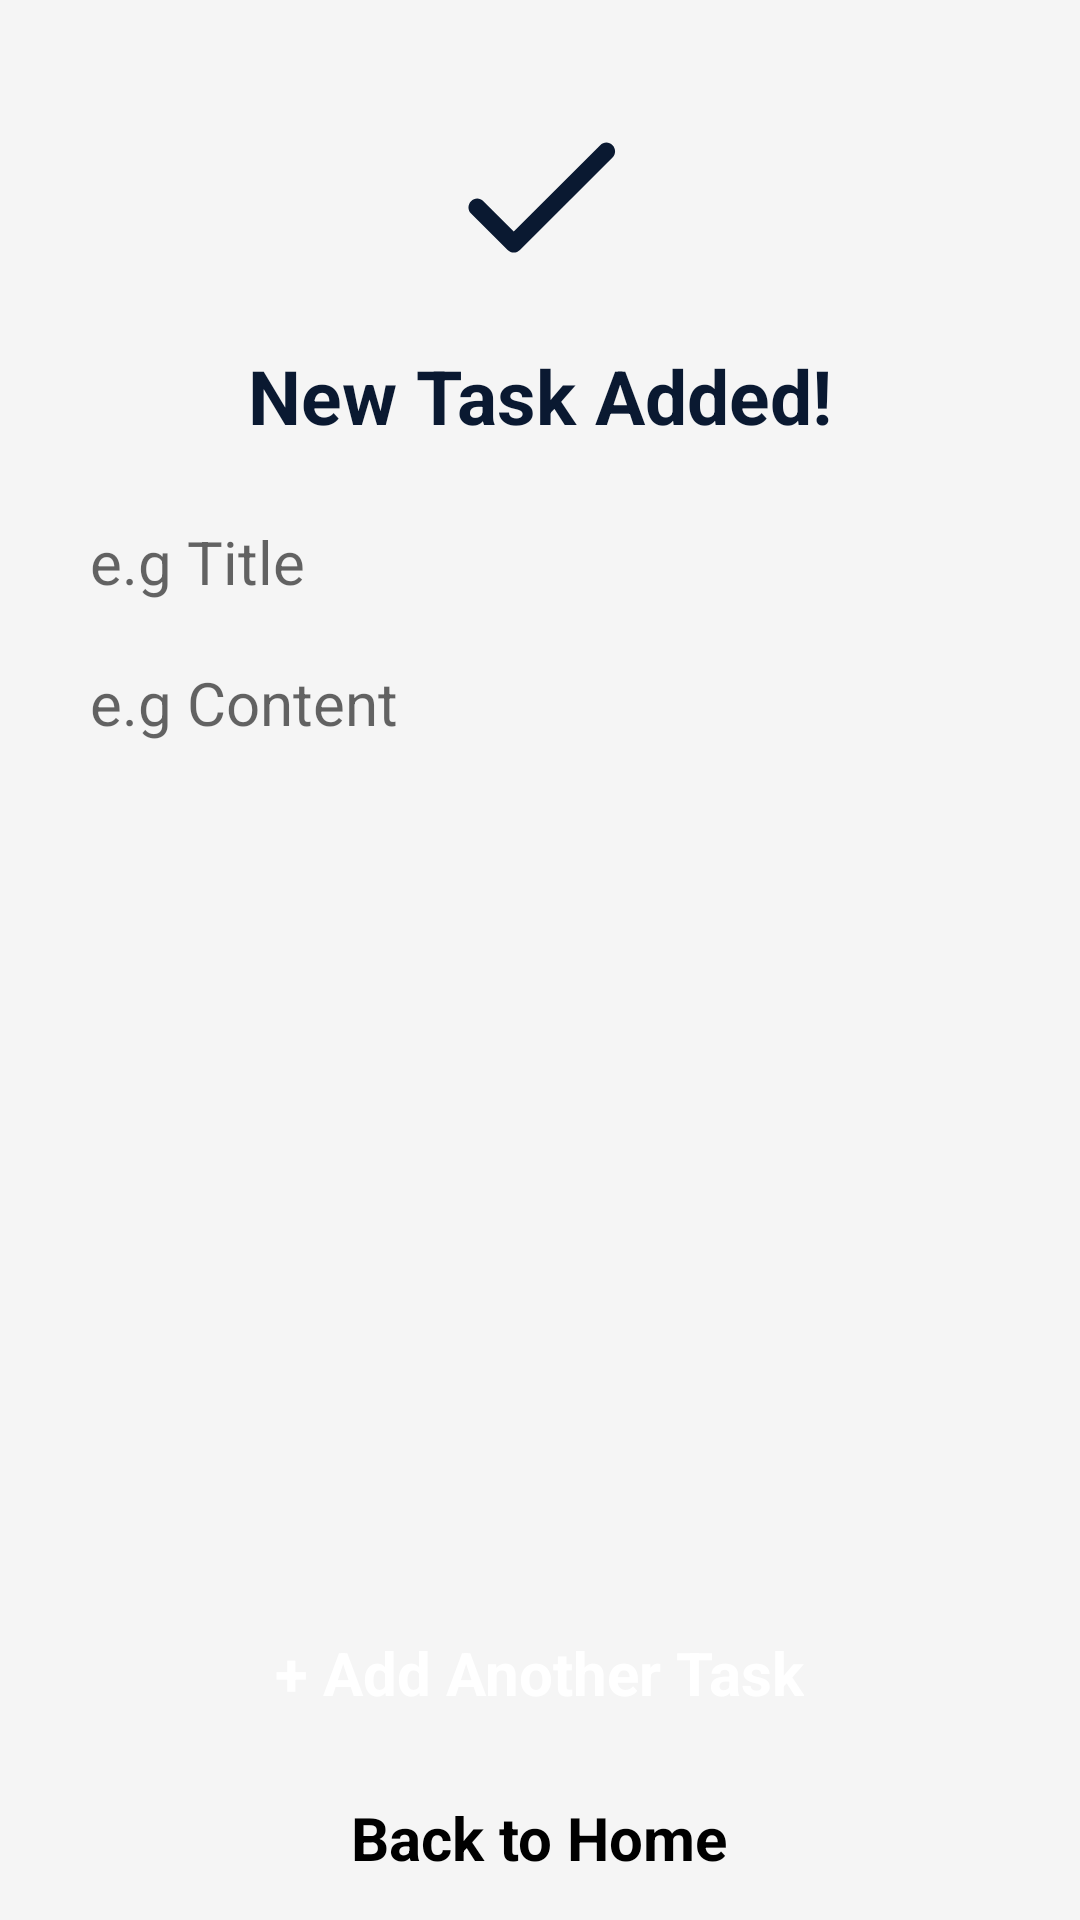

Point at icon controls on the screen. Image size 1080*1920, points as point (x, y).
check: point (541, 197)
